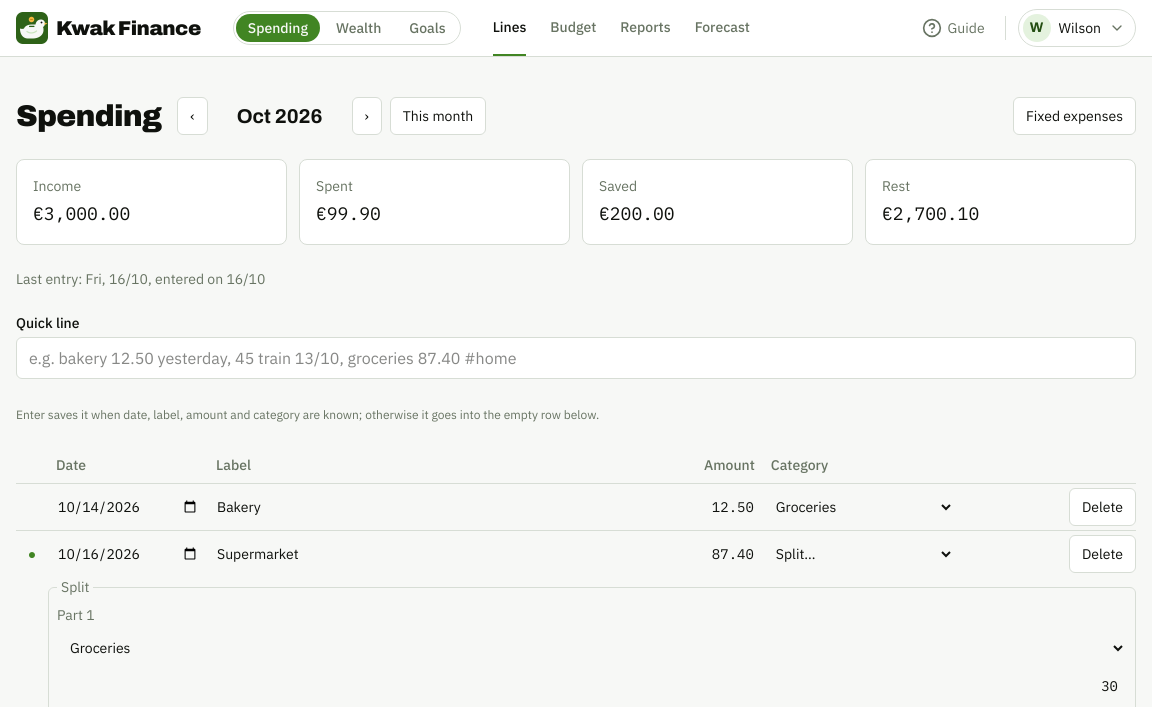
the account menu holds the household settings and preferences
Expected: the link "Categories" is not shown
Click the button with aria-label "Account menu: Wilson" at coordinates (1077, 28), box [1018,9,1136,47]
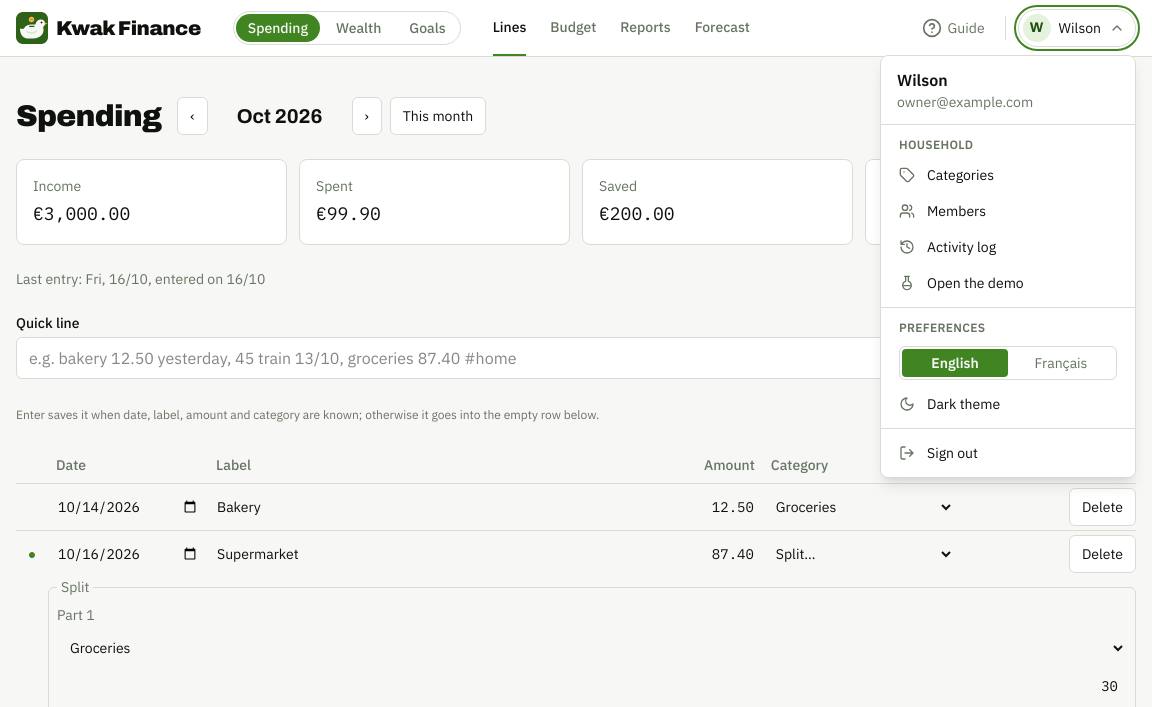
Expected: the button with aria-label "Account menu: Wilson" is expanded, [1018,9,1136,47]
Expected: the text "owner@example.com" is shown, [897,93,1033,111]
Expected: the button "Dark theme" is shown, [887,386,1129,422]
Press Escape
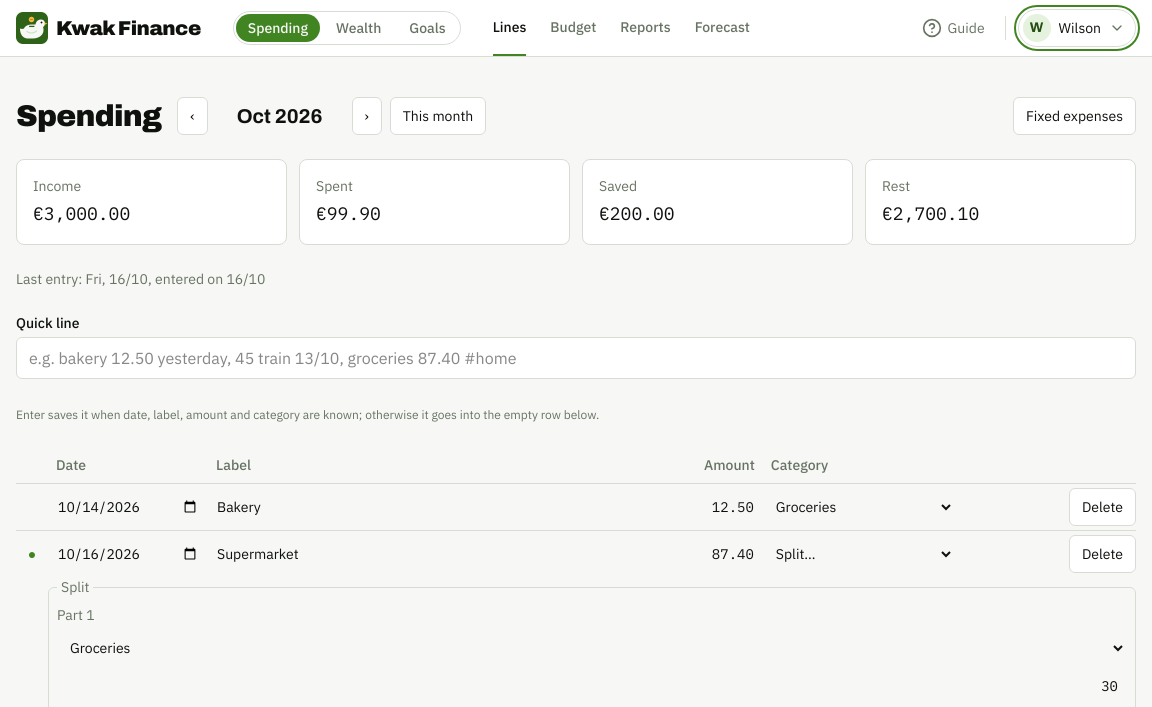
Expected: the button with aria-label "Account menu: Wilson" is collapsed, [1018,9,1136,47]
